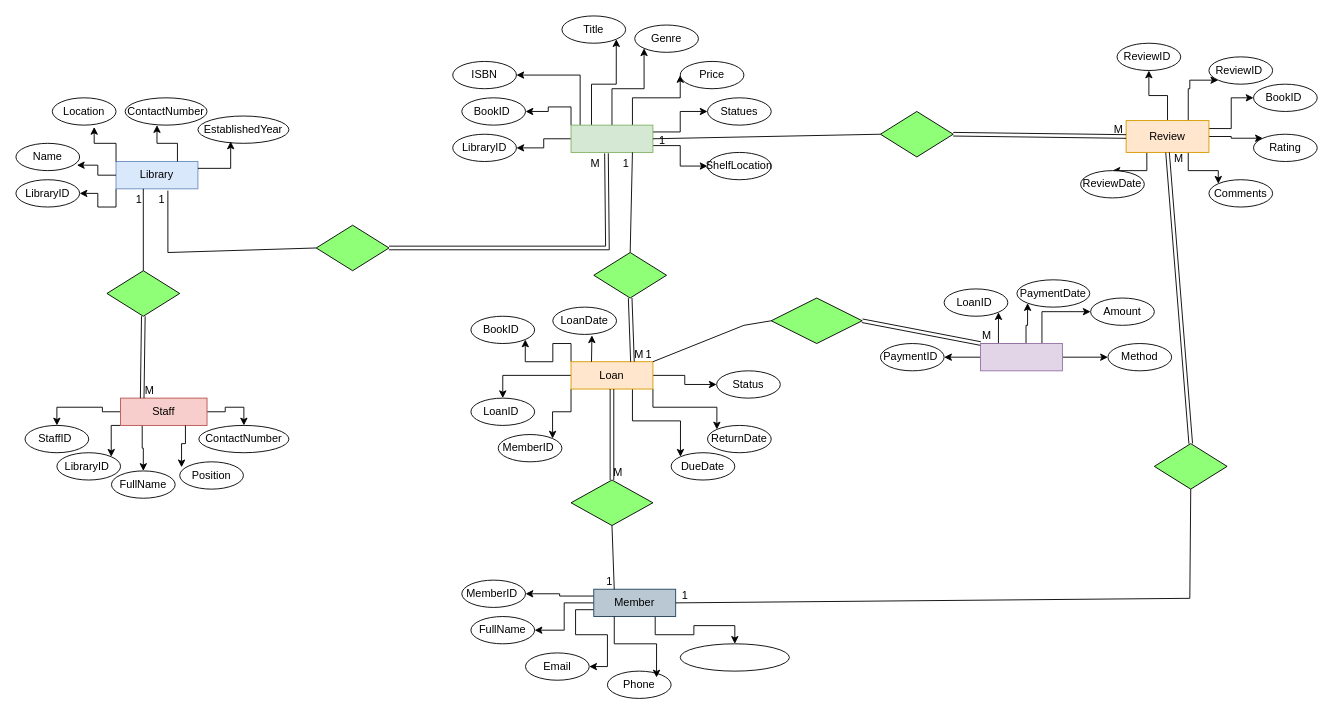
This 1333x714 diagram has some shape labels left out. Here are the shapes that lost their labels. From the top down, the centre of each, then its label:
At (x=611, y=138): "Book".
At (x=916, y=134): "reviewed_in".
At (x=352, y=247): "owns".
At (x=143, y=293): "emplyes".
At (x=630, y=275): "loaned_in".
At (x=816, y=320): "has".
At (x=1021, y=357): "Payment".
At (x=1190, y=466): "written_by".
At (x=611, y=502): "borrowed_by".
At (x=734, y=657): "MembershipStartDate".
